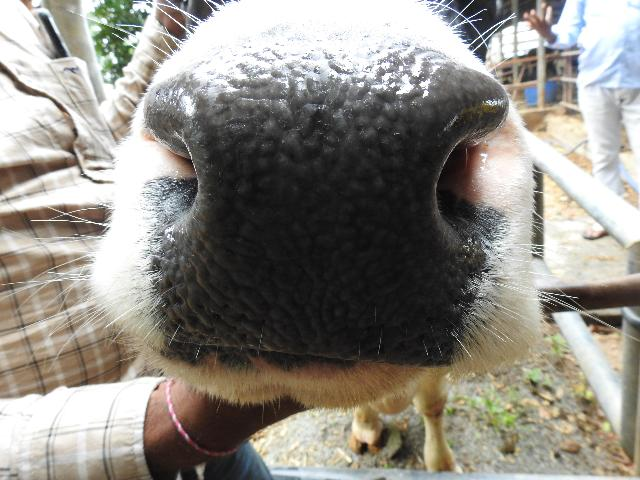Muzzle: (163, 82, 471, 358)
